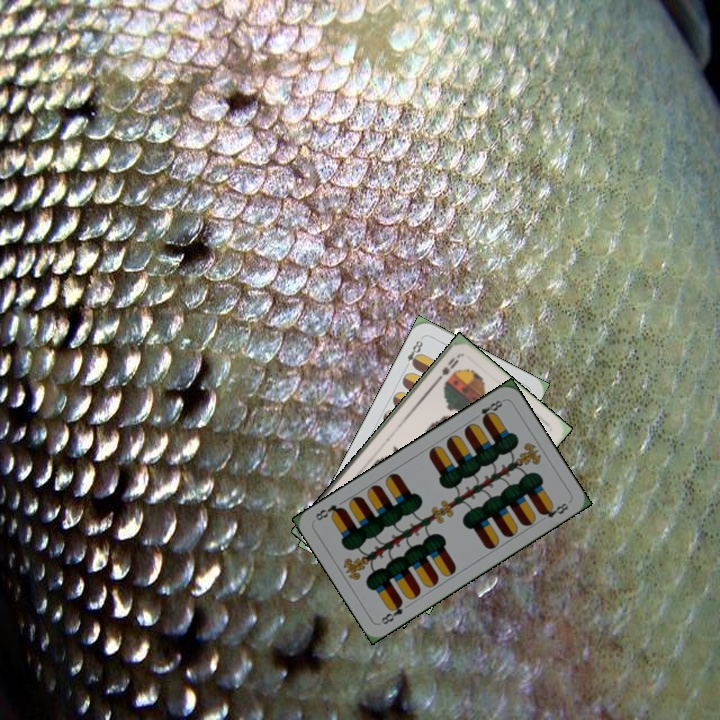E8: (377, 596, 406, 627), (401, 334, 425, 371), (476, 396, 506, 424)
SO: (431, 351, 461, 386)
